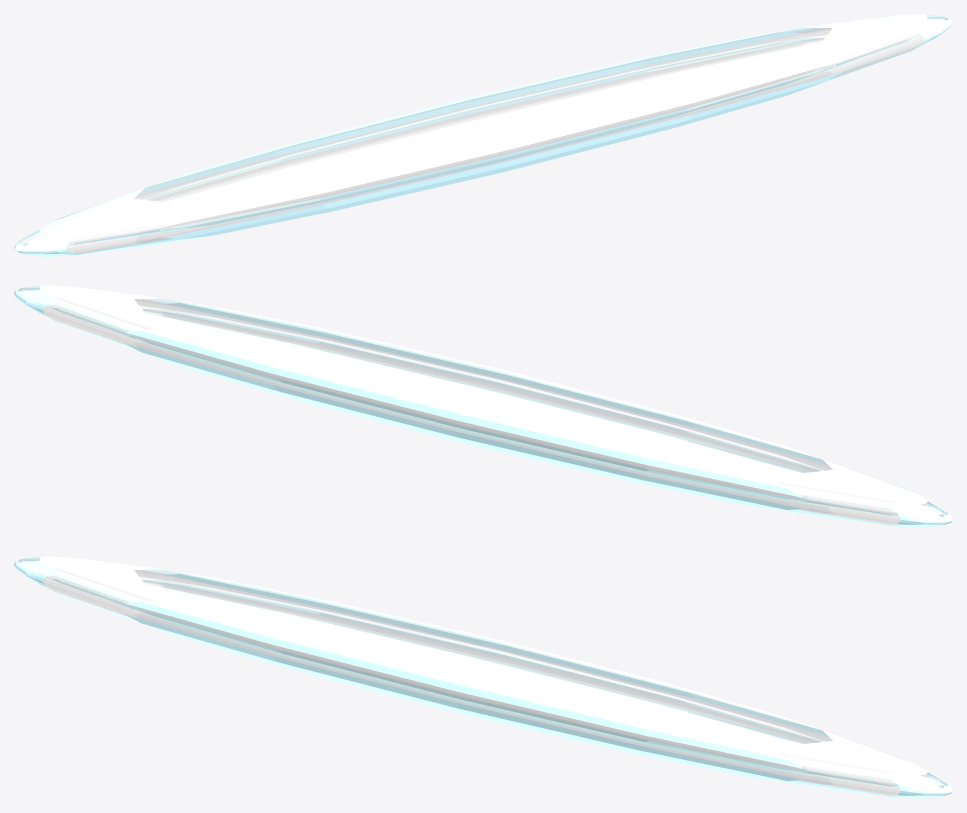
Rendered from Ribbon_v0.3.glb.
3 renders of one model, top to bottom at view 1: azimuth 30°, elevation 25°; view 2: azimuth 150°, elevation 25°; view 3: azimuth 330°, elevation 25°, orthographic.
Visible parts, largest first — view 1: Ribbon; view 2: Ribbon; view 3: Ribbon.
Part boxes in pixels (box(x1,y1,x2,y2)): Ribbon: box(14, 14, 952, 256); Ribbon: box(14, 285, 952, 527); Ribbon: box(14, 556, 952, 798).
Bounding box in the file's own units: 2.05 × 0.1259 × 0.2059.
